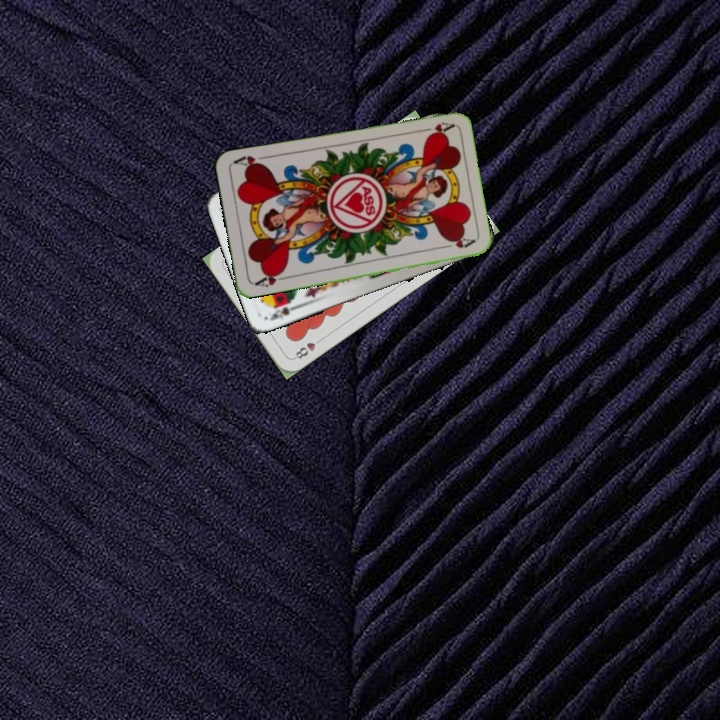H8: (290, 334, 325, 362)
HA: (415, 118, 456, 140), (251, 267, 290, 290)
SK: (266, 297, 302, 323)
